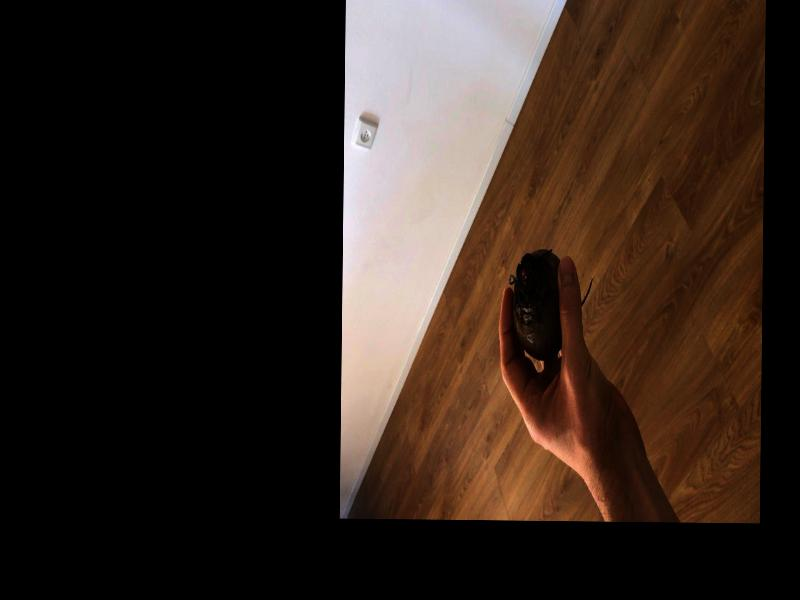Beet: (510, 248, 592, 360)
